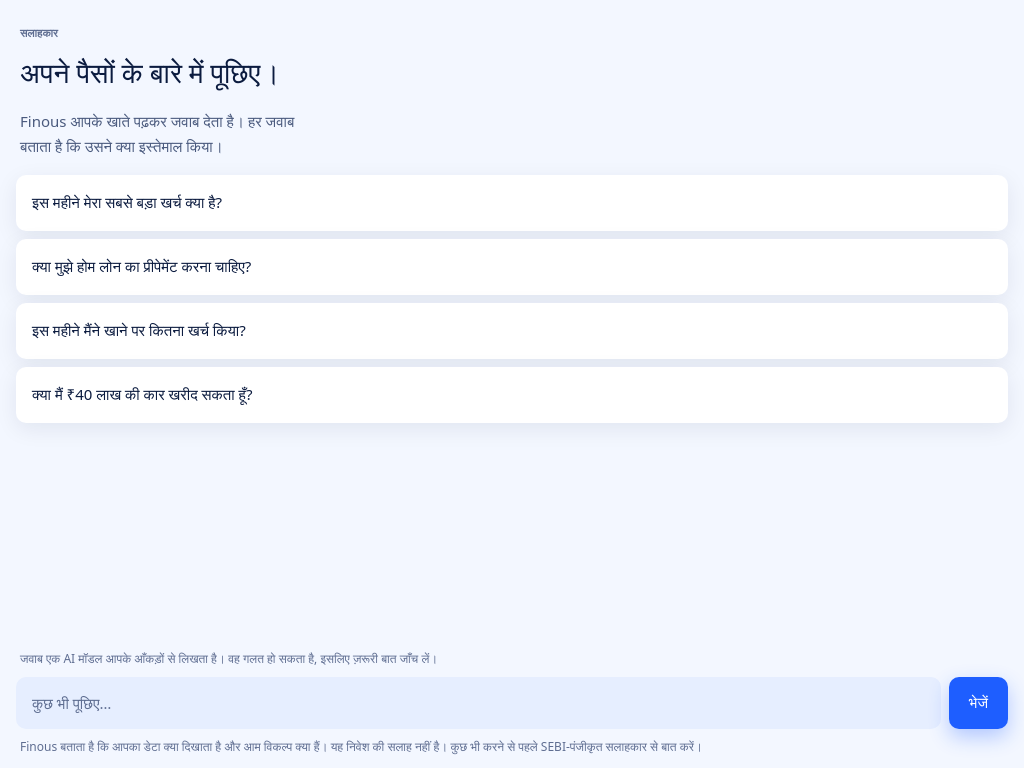
it: Advisor: Hindi and accessibility › answers a typed Hindi question
Type "खाने पर कितना गया" into the field named "सलाहकार से पूछें" at (478, 702), box [16,676,941,728]
Then press Enter
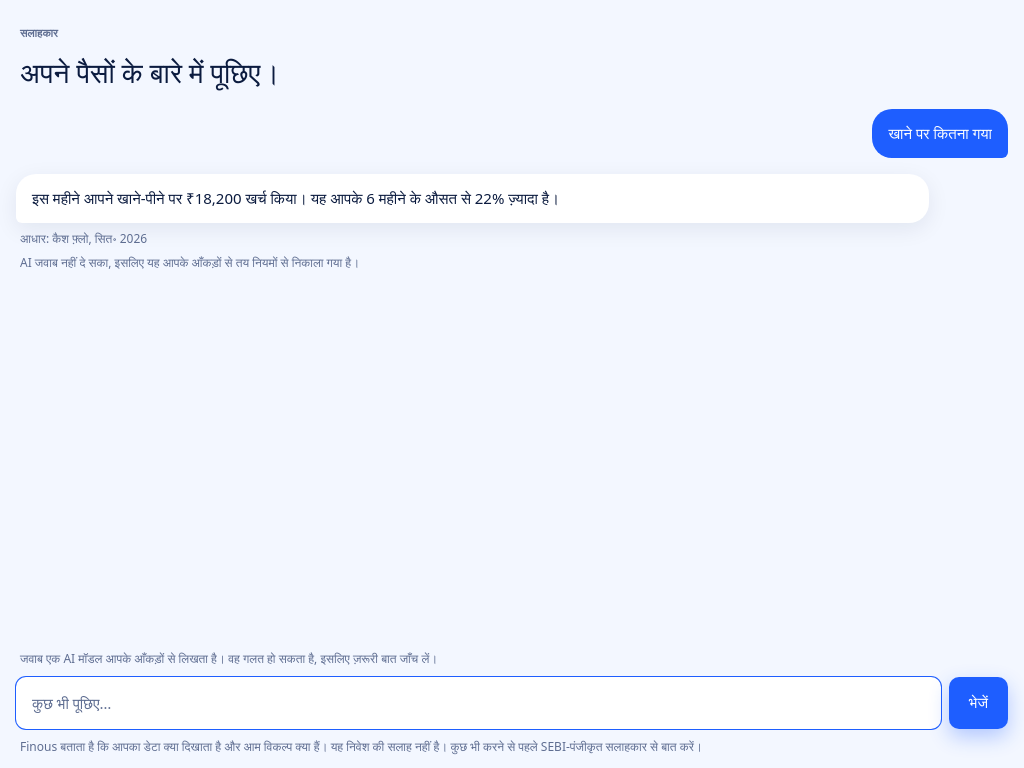
Expected: the text "₹18,200 खर्च किया" is shown, [32,188,559,208]
